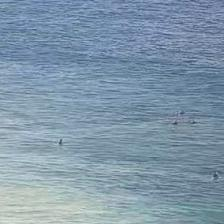surfer: (178, 110, 186, 116), (212, 172, 219, 178), (172, 120, 179, 126), (190, 120, 197, 126), (58, 138, 63, 146)
